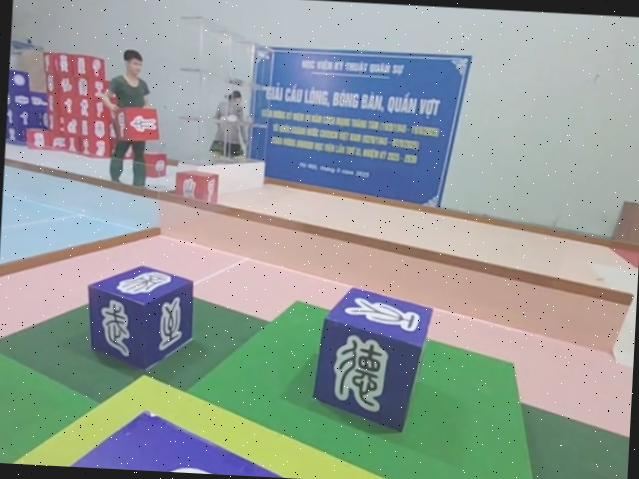R2 Fake Blue: (309, 285, 432, 436), (81, 264, 194, 375)
